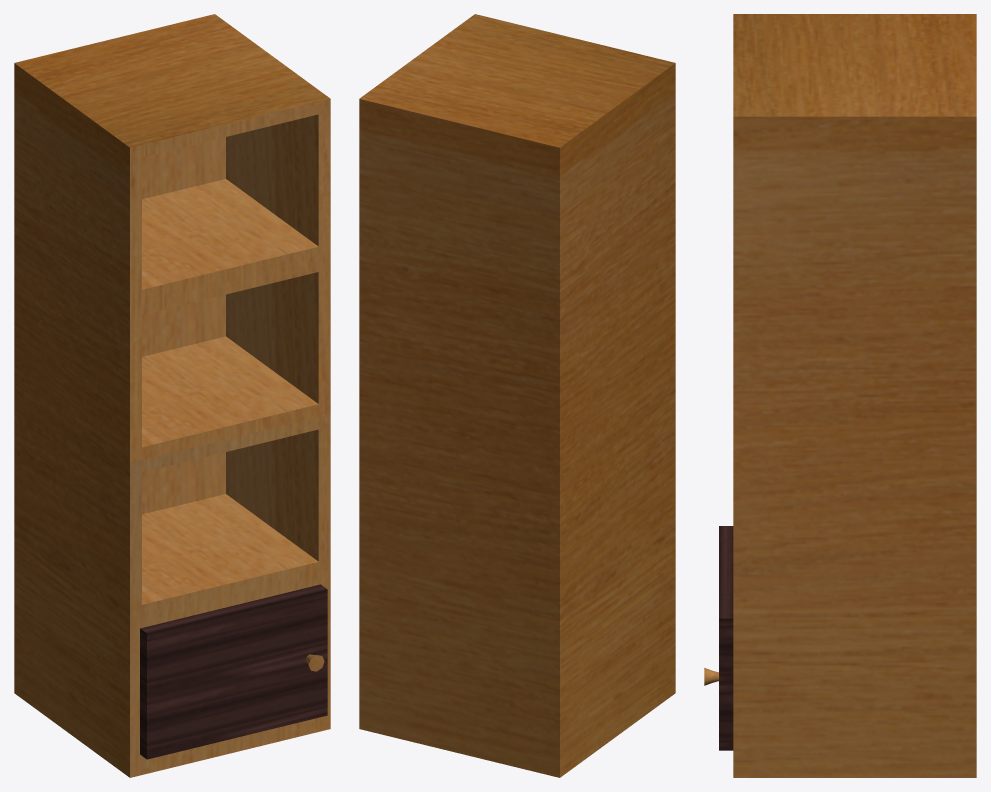
The model's file is Bookshelves.FBX.
3 views of the same model, side by side, from view 1: azimuth 30°, elevation 25°; view 2: azimuth 150°, elevation 25°; view 3: azimuth 270°, elevation 25° (orthographic). The views are drawn at different scales.
Visible parts, largest first — view 1: Box001; view 2: Box001; view 3: Box001.
Part boxes in pixels (left/top/right/bottom): Box001: left=14, top=14, right=330, bottom=777; Box001: left=359, top=14, right=675, bottom=777; Box001: left=704, top=14, right=976, bottom=777.
Bounding box in the file's own units: 50 × 150 × 56.
Materials: 1 (1 with a texture image).
